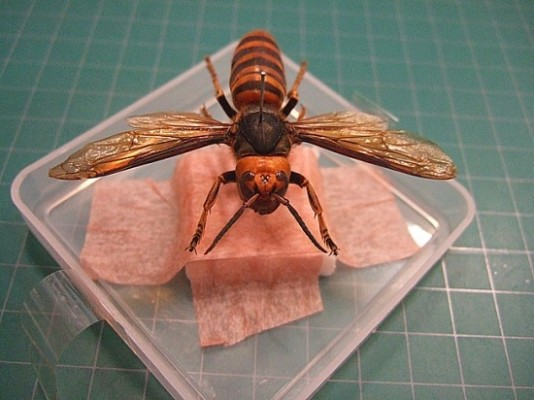asian_giant_hornet: (50, 26, 459, 261)
